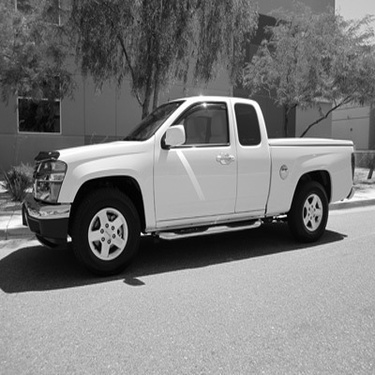car: (13, 86, 361, 285)
